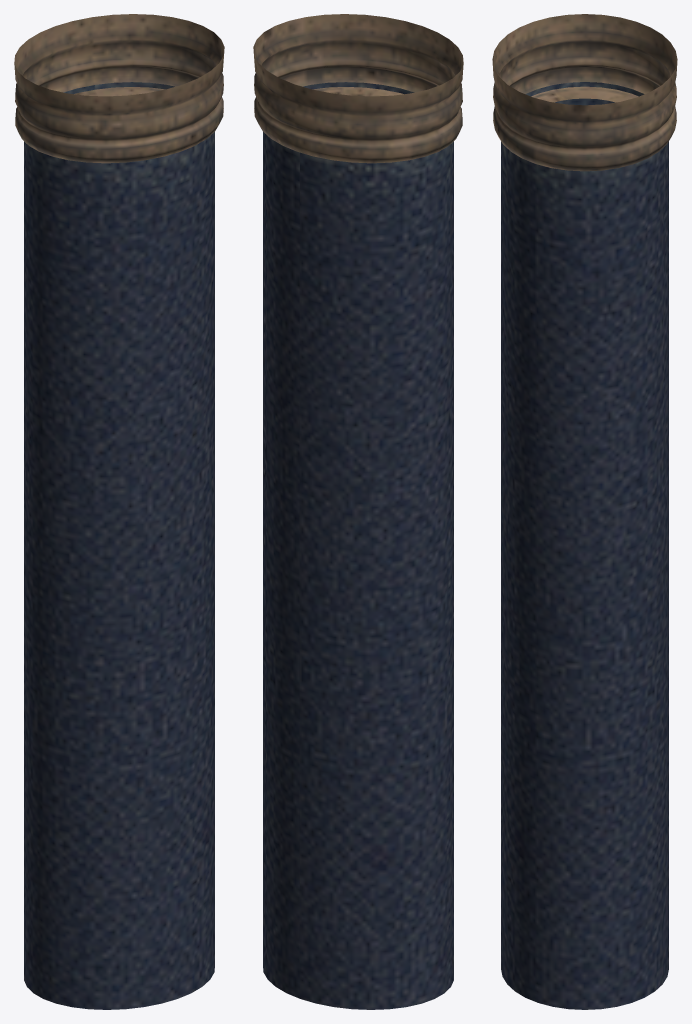
Rendered from wm_swan_knight_sword_a_hilt.fbx.
3 views of the same model, side by side, from view 1: azimuth 30°, elevation 25°; view 2: azimuth 150°, elevation 25°; view 3: azimuth 270°, elevation 25° (orthographic).
Visible parts, largest first — view 1: wm_swan_knight_sword_a_hilt; view 2: wm_swan_knight_sword_a_hilt; view 3: wm_swan_knight_sword_a_hilt.
Boxes of the visible parts, <box> form: wm_swan_knight_sword_a_hilt: <box>14,14,224,1009</box>; wm_swan_knight_sword_a_hilt: <box>253,14,463,1009</box>; wm_swan_knight_sword_a_hilt: <box>492,14,677,1009</box>.
Bounding box in the file's own units: 0.0309 × 0.0264 × 0.1432.
1 material, 1 textured.
